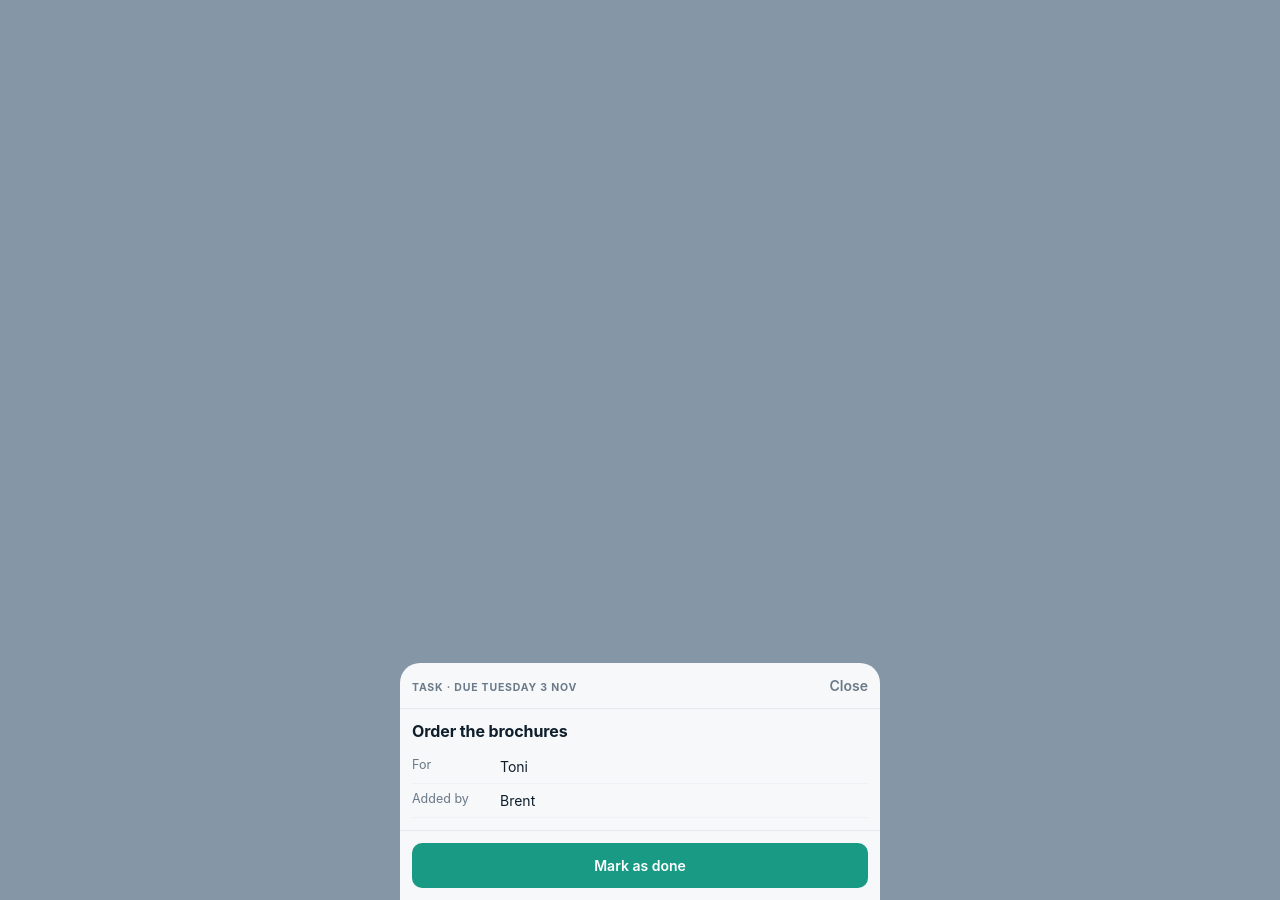
Test: a task, opened › says so when it did not save
Click the button "Mark as done" at coordinates (640, 866), box [412,843,868,888]
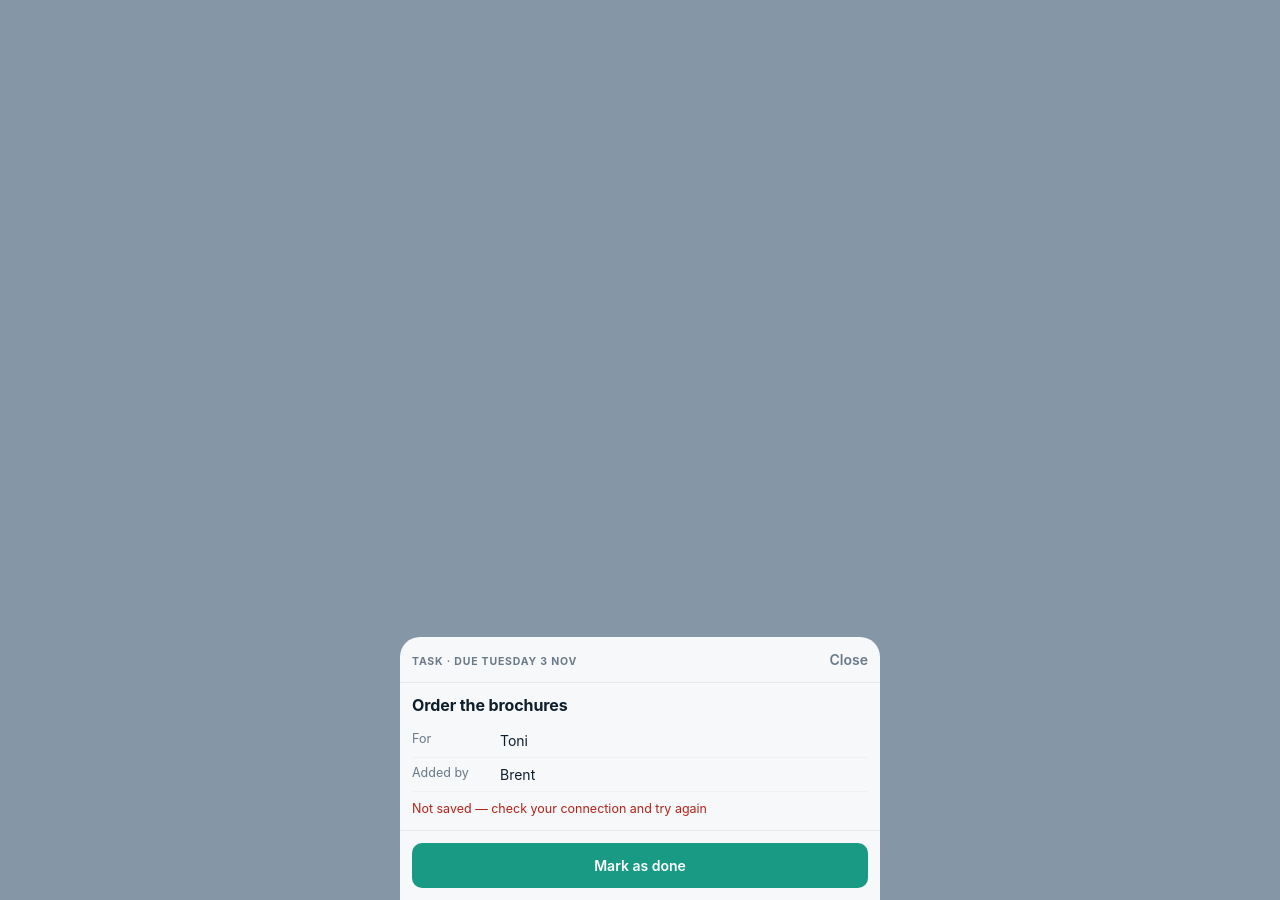
Now the message shows "Not saved", box [412,801,707,816]
